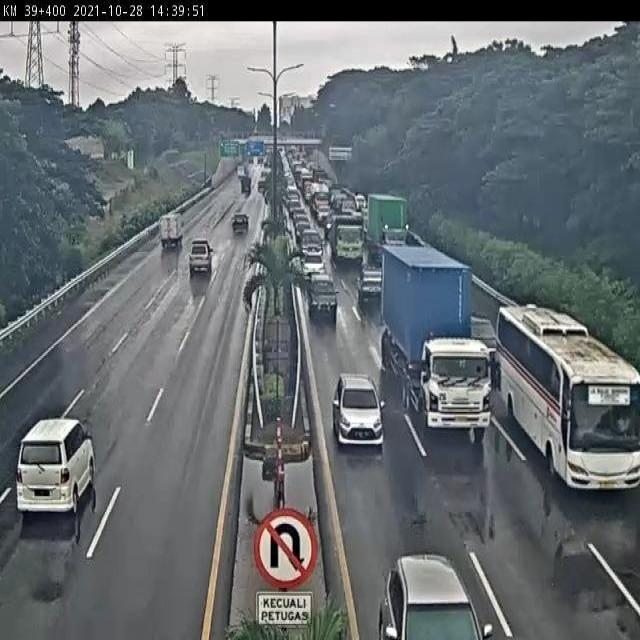Bus: (496, 302, 640, 494)
Car: (376, 555, 492, 640), (15, 418, 96, 514), (332, 373, 386, 448), (310, 274, 338, 315), (188, 239, 212, 273), (302, 251, 325, 278), (232, 214, 249, 234)
Truck: (381, 245, 492, 444), (368, 192, 409, 258), (331, 217, 365, 264), (357, 265, 384, 304), (159, 212, 185, 248)
